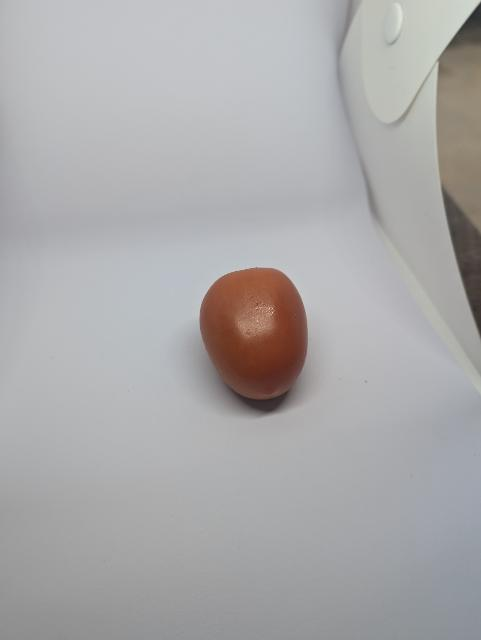red: (187, 258, 318, 412)
